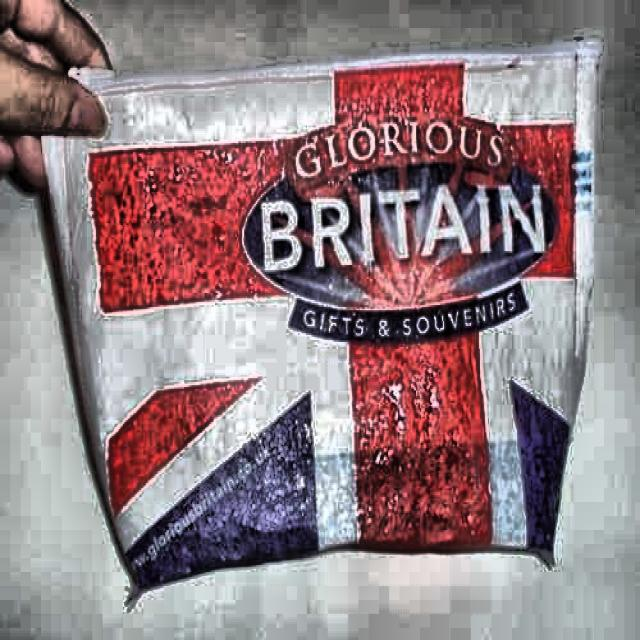Plastic: (36, 44, 602, 599)
